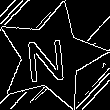N_N: (28, 29, 73, 84)
